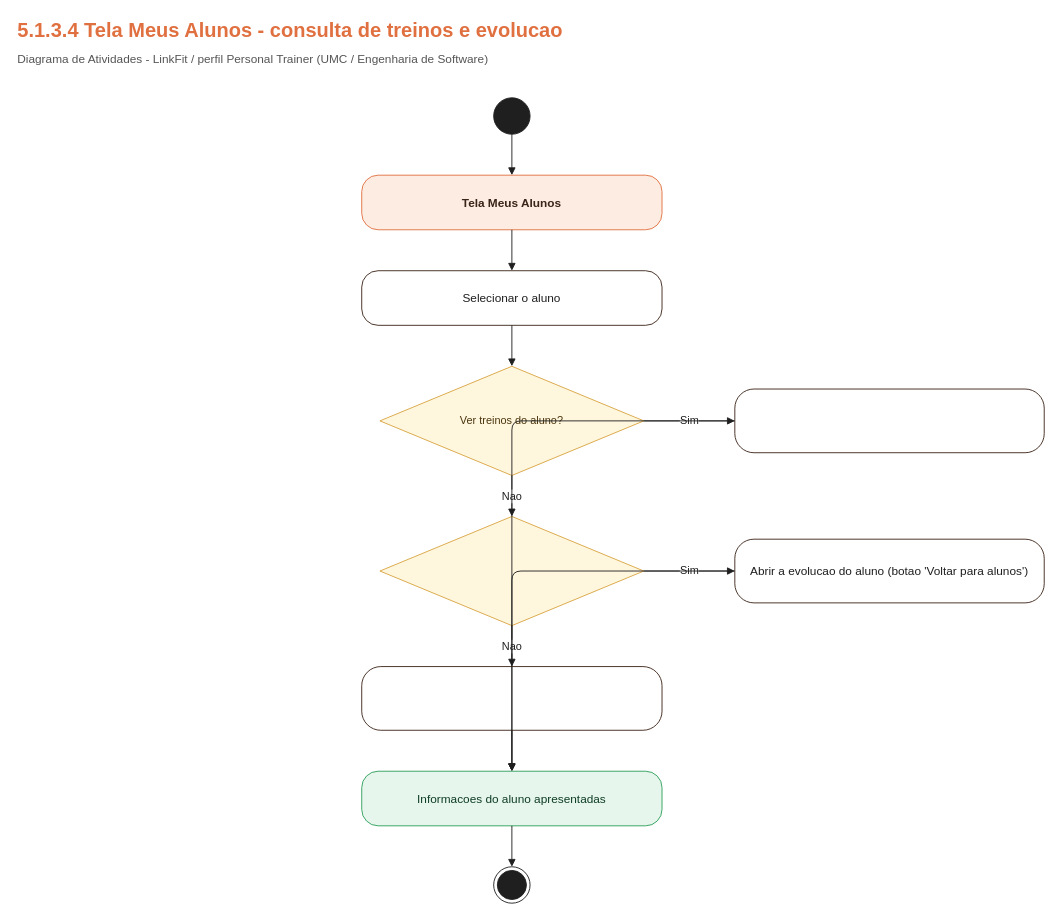
Some shapes in this 1060 by 919 pixel diagram are drawn without their labels. The box of each missing label's shape, as (x1, y1, x2, y2) in pixels:
Abrir a tela Treinos com o aluno em foco: (734, 388, 1044, 453)
Exibir o perfil do aluno (sessoes, progresso e contato): (361, 666, 662, 730)
Ver evolucao do aluno?: (379, 516, 644, 626)
